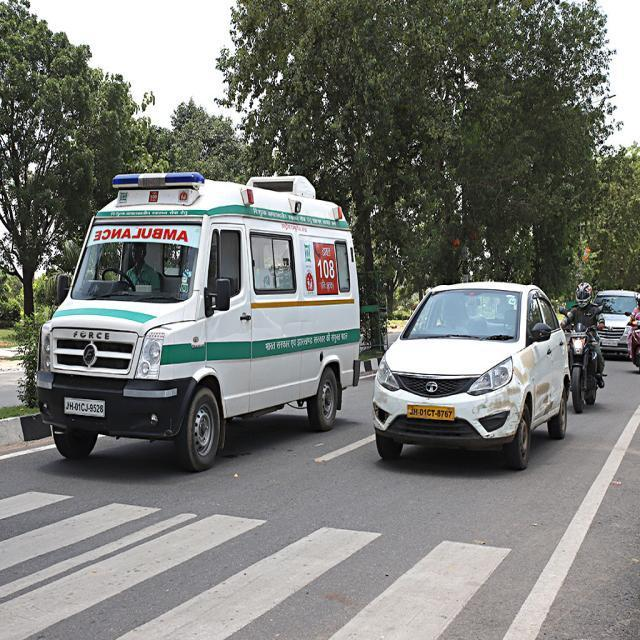Ambulance: (91, 227, 190, 245)
